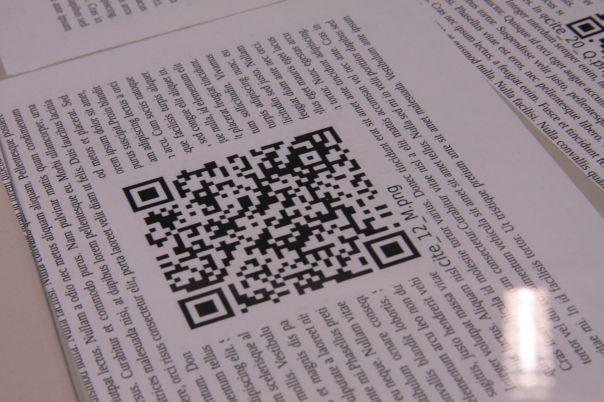Finder pattern: (175, 285, 239, 330), (362, 228, 423, 273), (121, 176, 177, 214)
